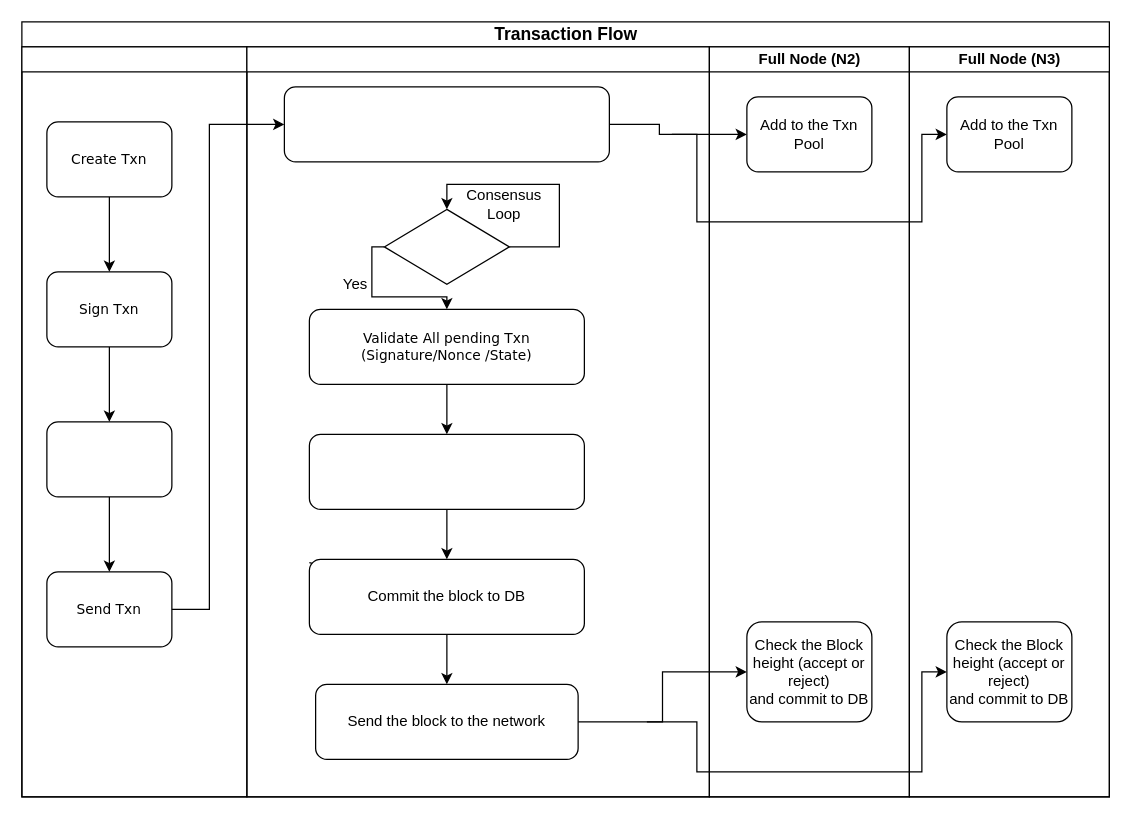
Image size: 1131x819. Some labels were removed from this diagram. Each missing label, with the box of its shape:
1. Deserialize Txn 2. Add to the Txn Pool 3. Propagate to other validators: (283, 86, 609, 162)
Blockchain Validator (N1): (246, 46, 709, 797)
Client: (21, 46, 247, 797)
Is new leader: (383, 208, 509, 284)
Propose a new block with these Txn: (308, 433, 584, 509)
Serialize Txn: (46, 421, 172, 497)
